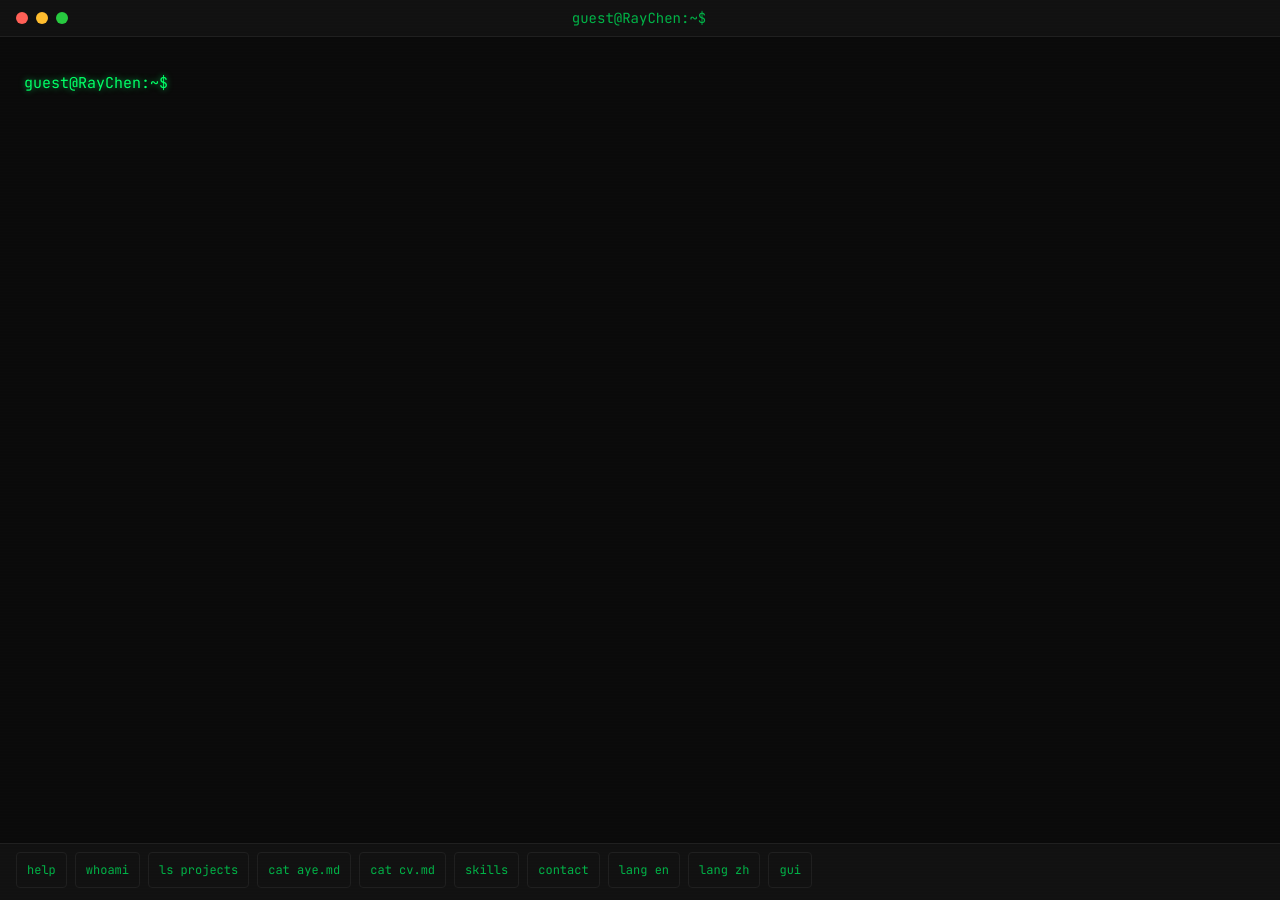
Terminal · 快捷命令栏 (点击 = 直接执行) › 点击 "whoami" 直接提交并显示输出 (不只是把字塞到输入框)
// 找到 toolbar 内的 whoami 按钮（避免与 input 的 textbox 混淆）
What coordinates should you click on to do the following:
click the button "whoami"
I would click on:
 (107, 870)
Its box is [75, 852, 140, 888].
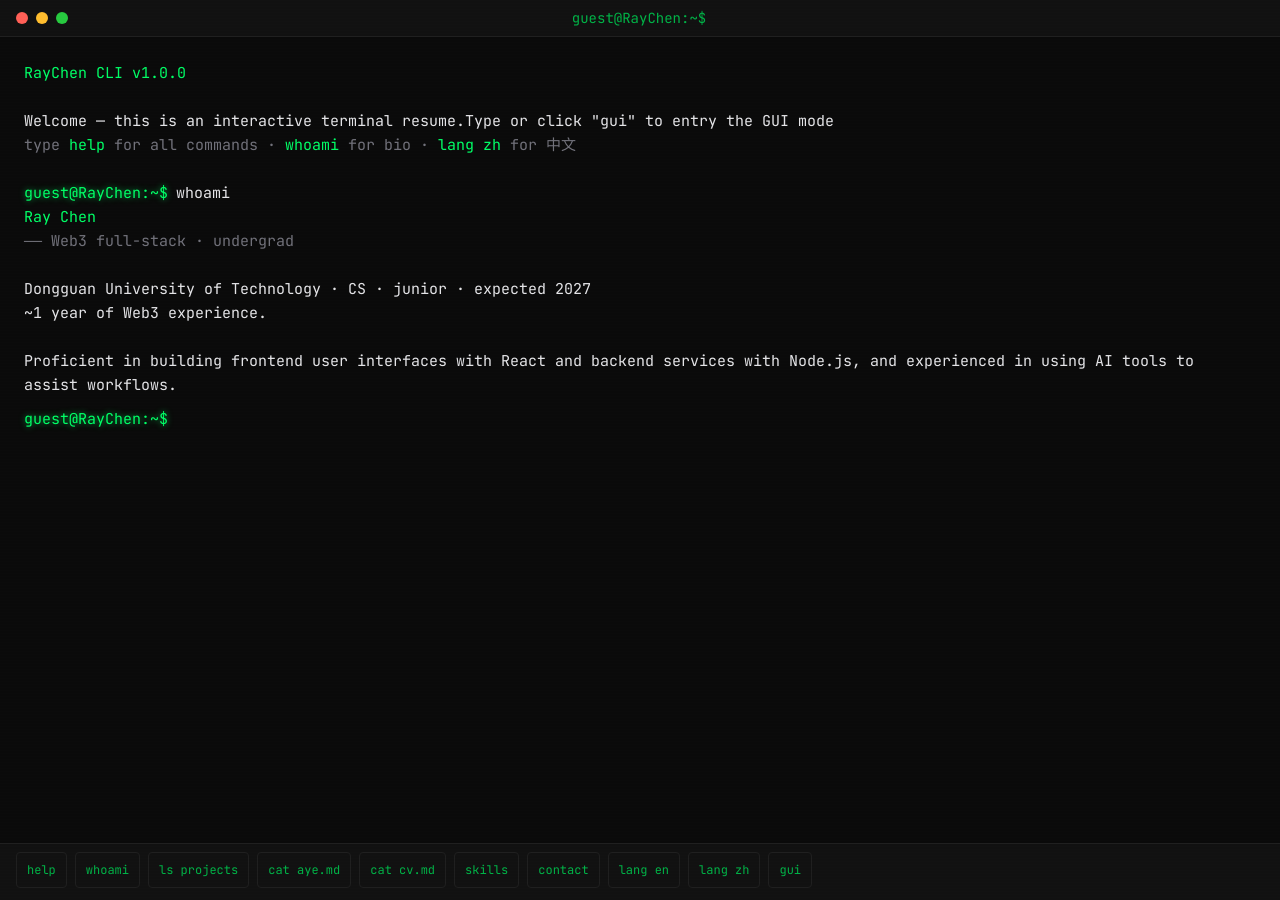
Expected: the field is empty, [176, 409, 1256, 430]
Now the text "Ray Chen" is shown, box [24, 207, 96, 227]
